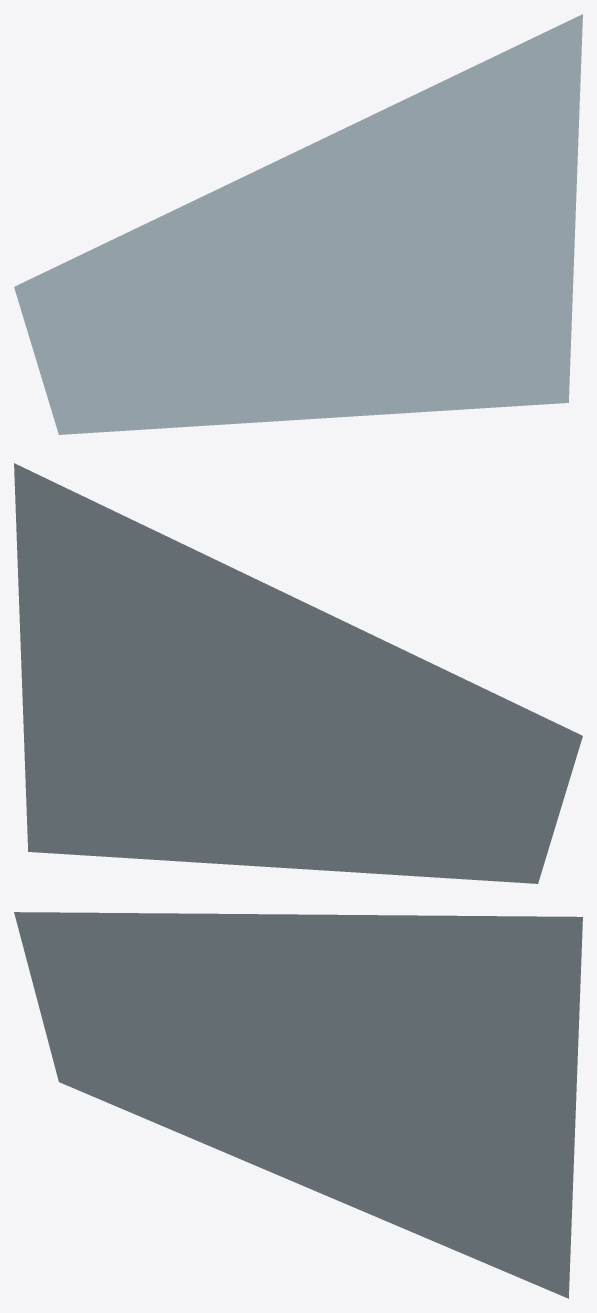
The picture shows the model from 3 angles, top to bottom: view 1: azimuth 30°, elevation 25°; view 2: azimuth 150°, elevation 25°; view 3: azimuth 330°, elevation 25°; orthographic projection.
Visible parts, largest first — view 1: pCube27; view 2: pCube27; view 3: pCube27.
Boxes of the visible parts, left/top/right/bottom form: pCube27: left=14, top=14, right=582, bottom=434; pCube27: left=14, top=463, right=582, bottom=883; pCube27: left=14, top=912, right=582, bottom=1298.
Size of the model in its own units: 35.81 by 23.18 by 0.
